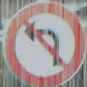Don't turn left: (5, 5, 80, 78)
